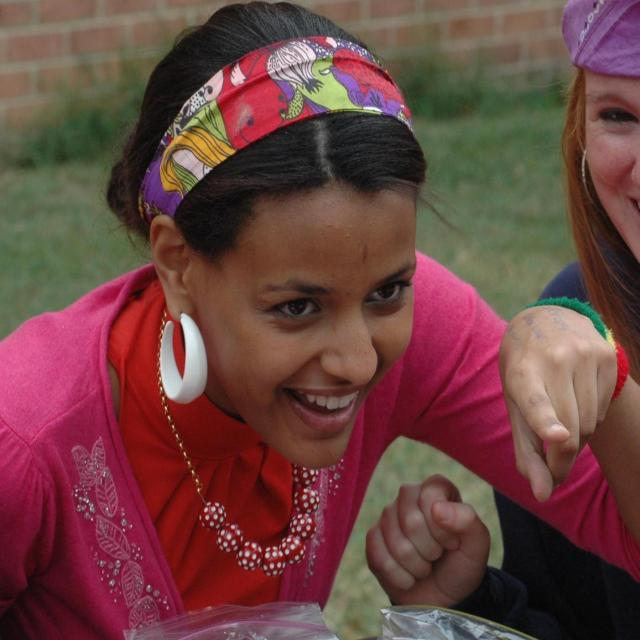no-glass: (265, 274, 405, 326)
